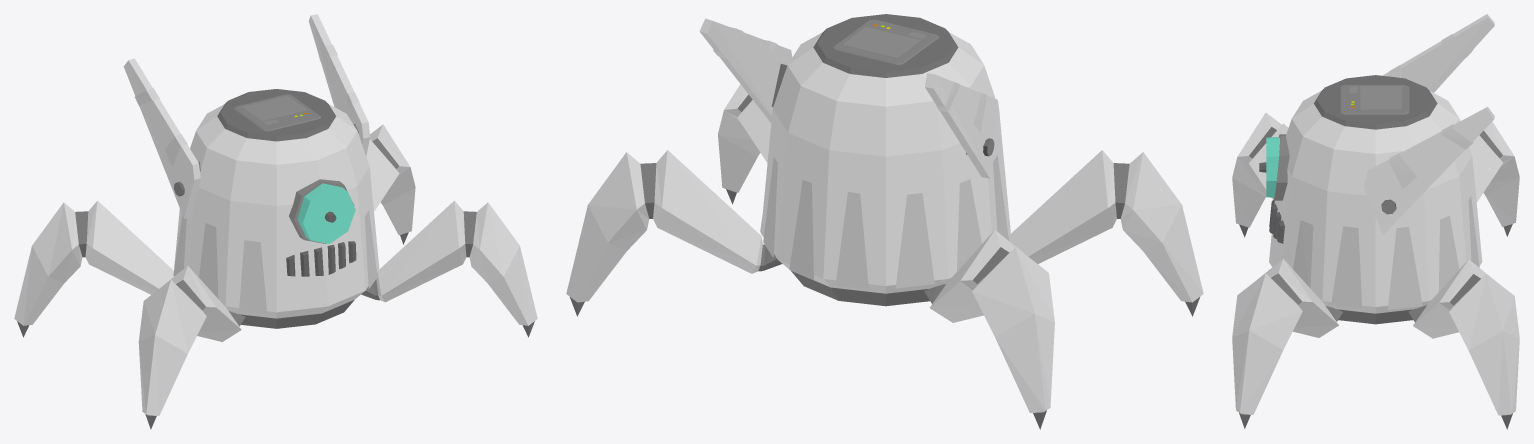
File: ENM_PhageDrone_B.glb
3 views of the same model, side by side, from view 1: azimuth 30°, elevation 25°; view 2: azimuth 150°, elevation 25°; view 3: azimuth 270°, elevation 25° (orthographic). The views are drawn at different scales.
Parts seen in each view (by area): view 1: SpiderBot__0; view 2: SpiderBot__0; view 3: SpiderBot__0.
Boxes of the visible parts, x1,y1,x2,y2 form: SpiderBot__0: [14, 14, 537, 429]; SpiderBot__0: [566, 14, 1203, 429]; SpiderBot__0: [1232, 14, 1519, 429].
Bounding box in the file's own units: 2.45 × 1.55 × 1.49.
